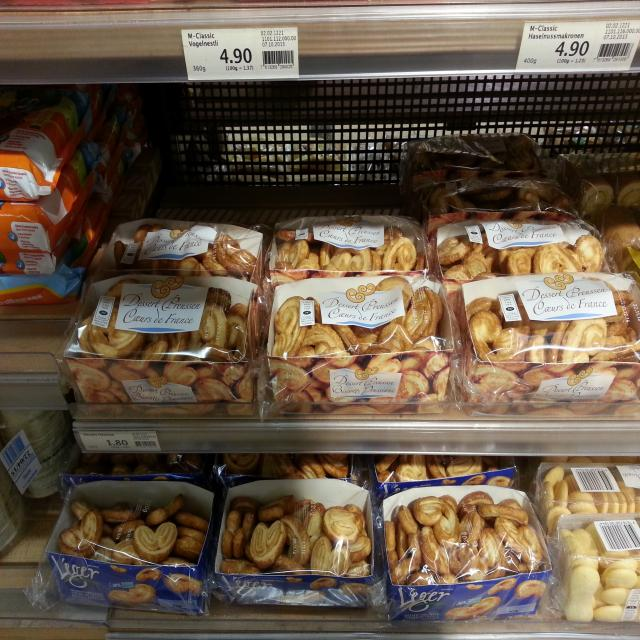Bakery: (260, 274, 468, 419), (54, 279, 266, 407), (39, 472, 225, 610), (380, 480, 556, 624), (205, 475, 378, 611), (451, 278, 640, 402), (425, 214, 621, 286), (87, 218, 271, 286), (269, 219, 440, 281), (562, 517, 640, 617), (538, 464, 640, 534)
